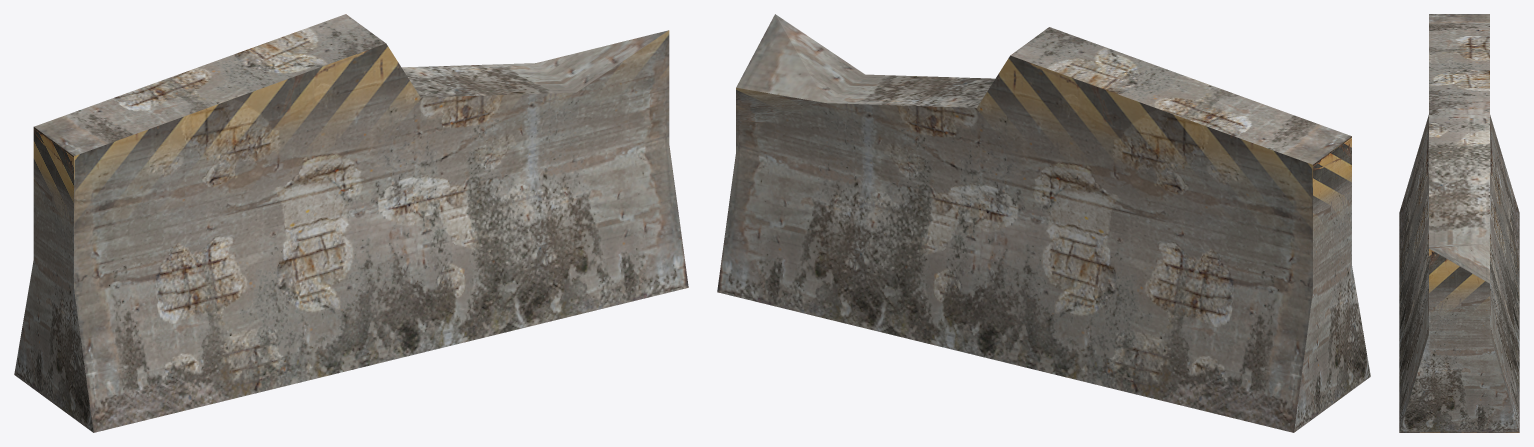
File: RoadBlock03.fbx
The picture shows the model from 3 angles, left to right: view 1: azimuth 30°, elevation 25°; view 2: azimuth 150°, elevation 25°; view 3: azimuth 270°, elevation 25°; orthographic projection. The views are drawn at different scales.
Parts seen in each view (by area): view 1: RoadBlock03; view 2: RoadBlock03; view 3: RoadBlock03.
Boxes of the visible parts, x1=… form: RoadBlock03: x1=14, y1=14, x2=688, y2=432; RoadBlock03: x1=717, y1=14, x2=1370, y2=432; RoadBlock03: x1=1399, y1=14, x2=1519, y2=432.
Bounding box in the file's own units: 102 × 48.83 × 23.5.
